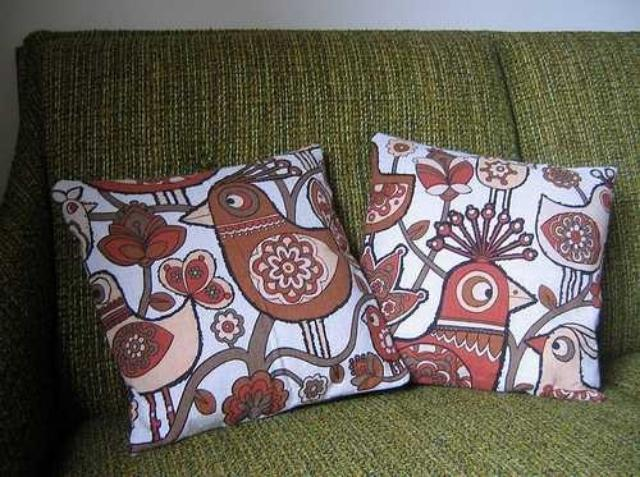pillow: (49, 144, 412, 455), (358, 131, 618, 403)
